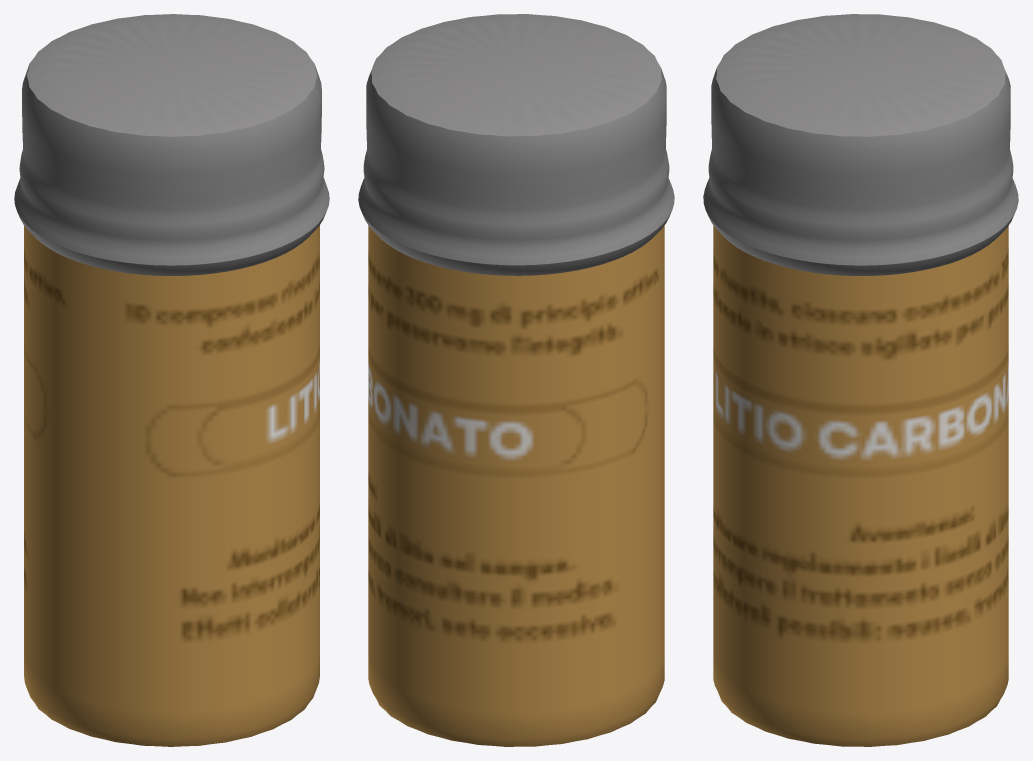
File: medicina2OR.fbx
The picture shows the model from 3 angles, left to right: view 1: azimuth 30°, elevation 25°; view 2: azimuth 150°, elevation 25°; view 3: azimuth 270°, elevation 25°; orthographic projection.
Visible parts, largest first — view 1: Tappo2; view 2: Tappo2; view 3: Tappo2.
Boxes of the visible parts, x1,y1,x2,y2 form: Tappo2: (14, 14, 329, 746); Tappo2: (358, 14, 674, 746); Tappo2: (703, 14, 1018, 746).
Size of the model in its own units: 8.16 by 17.8 by 8.15.
2 materials, 1 textured.
